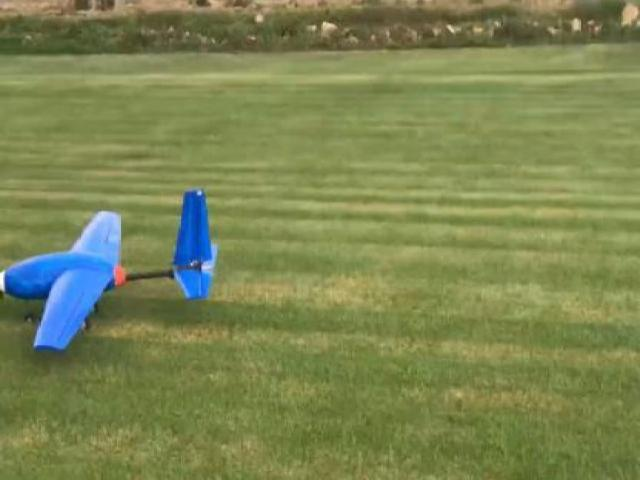uav: (1, 166, 238, 358)
